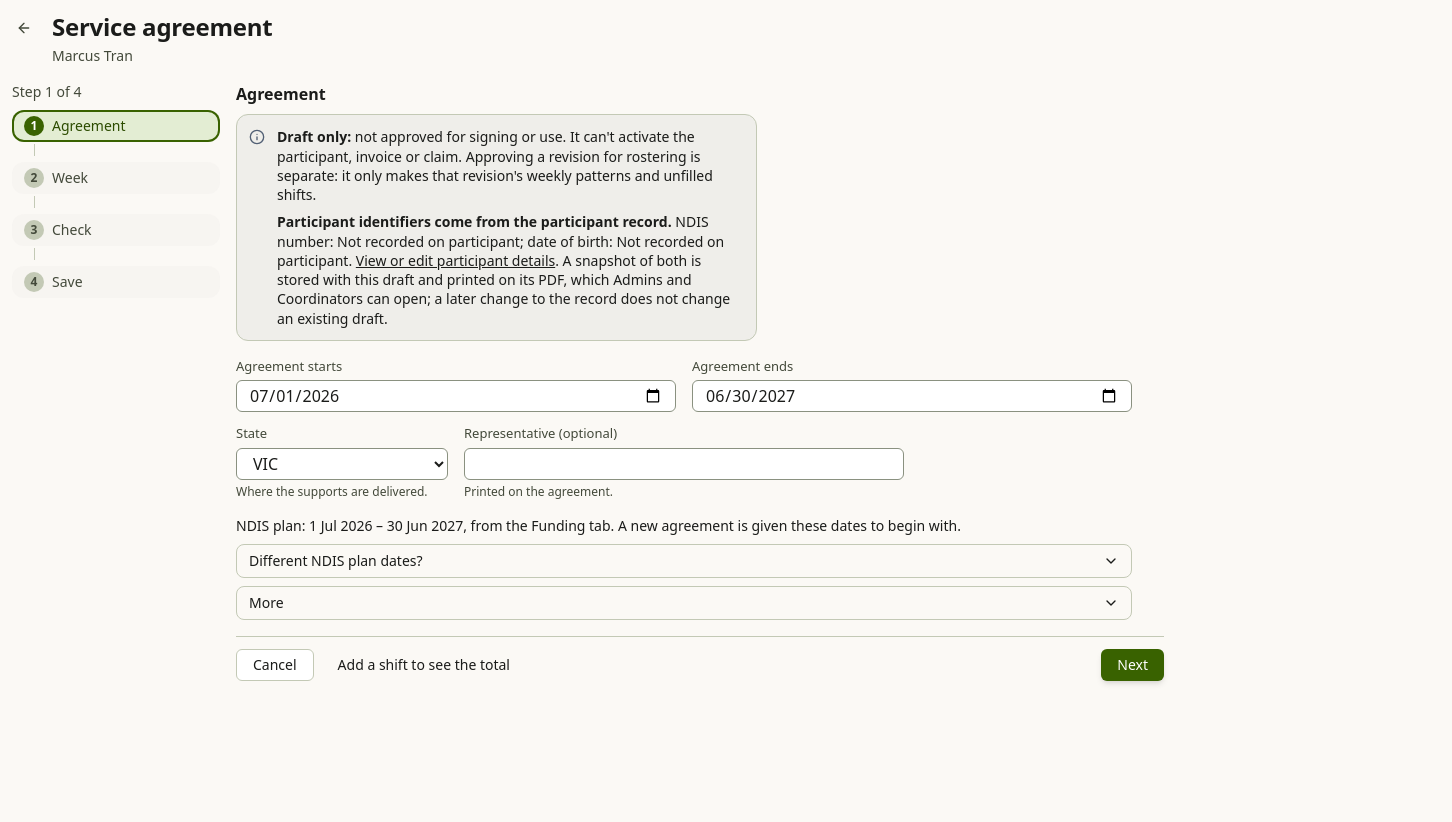
Test: ServiceAgreementDraftPage: the wizard › says what is wrong with the dates and stays on the step
Clear the date field labelled "Agreement starts" at (456, 396), box [236,380,676,412]
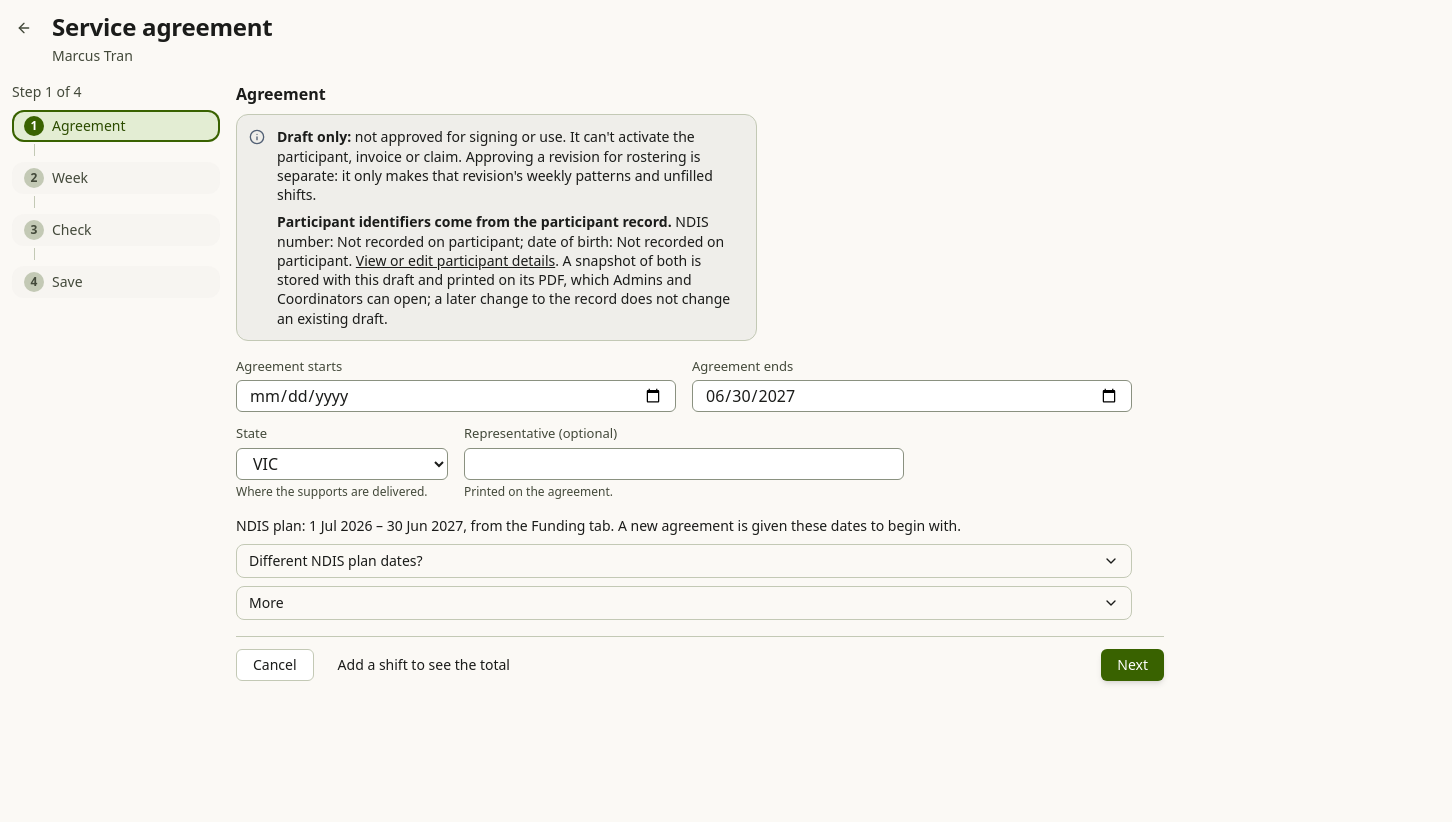
Click the button "Next".
click(1133, 665)  # box [1101,649,1164,681]
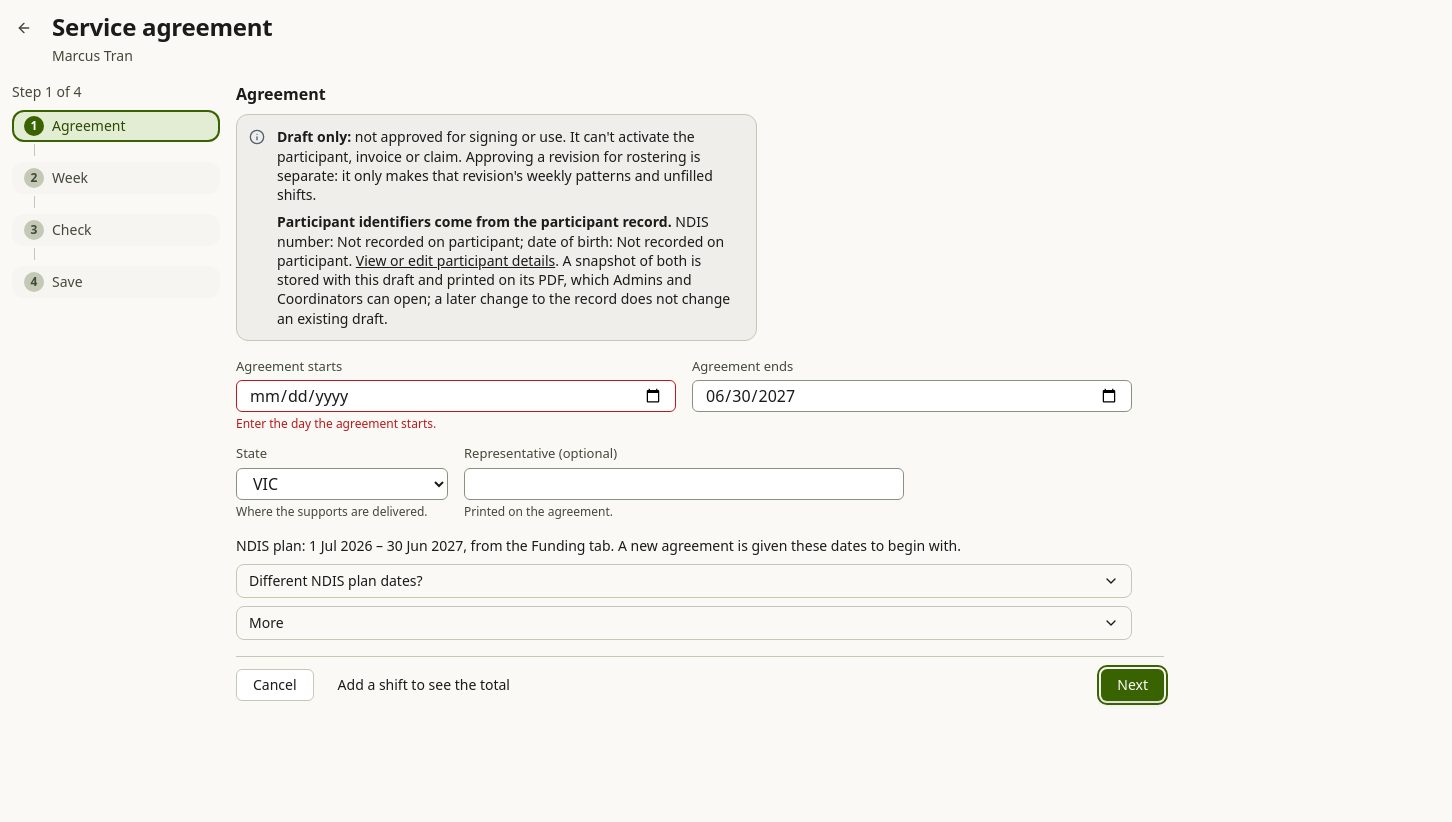
Expected: the heading "Agreement" is shown, [236,83,326,105]
Expected: the text "Enter the day the agreement starts." is shown, [236,415,436,432]
